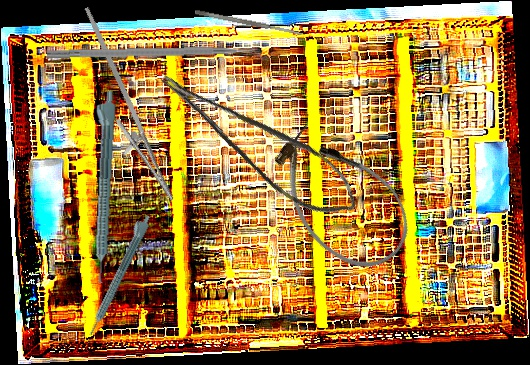Cannula: (252, 108, 429, 290)
Chopper: (46, 46, 265, 70)
Handpiece: (81, 211, 153, 338), (84, 90, 118, 284)
Micro Scissor: (155, 41, 369, 238)
Needle Holder: (48, 6, 197, 210)
Spatula Surgical: (194, 8, 304, 38)
